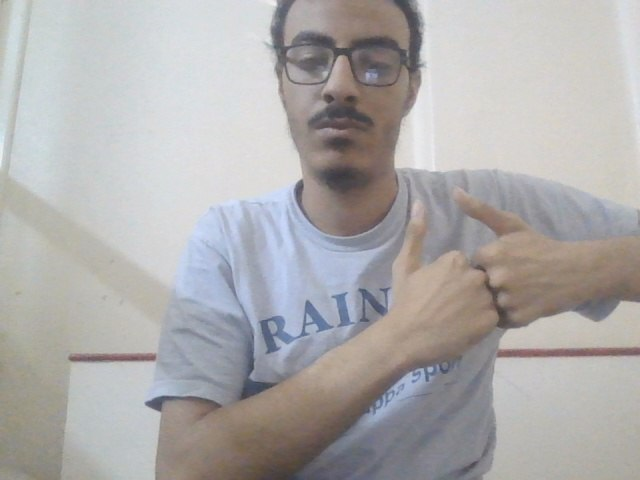Help: (376, 179, 590, 368)
